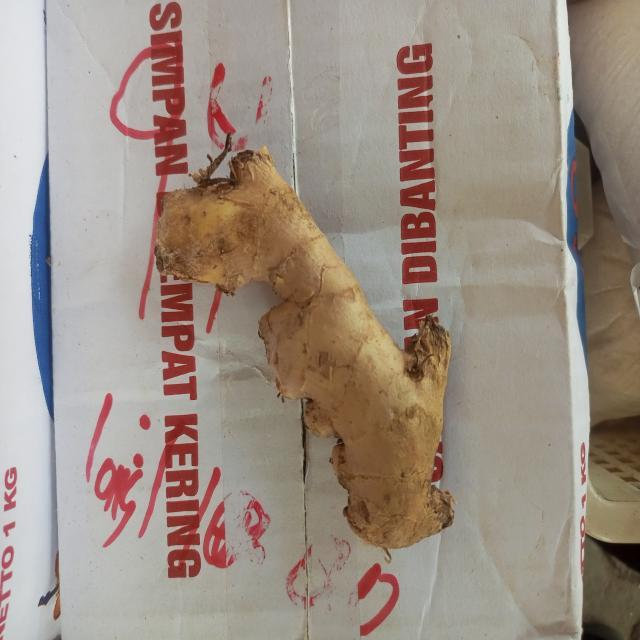ginger: (157, 148, 457, 550)
